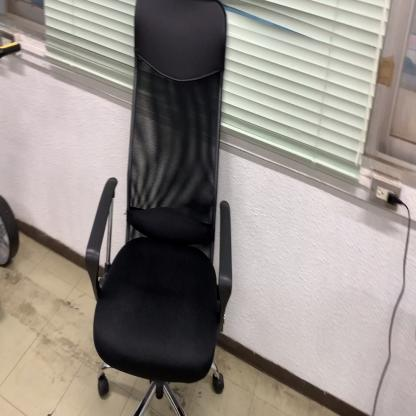chair: (83, 1, 236, 413)
